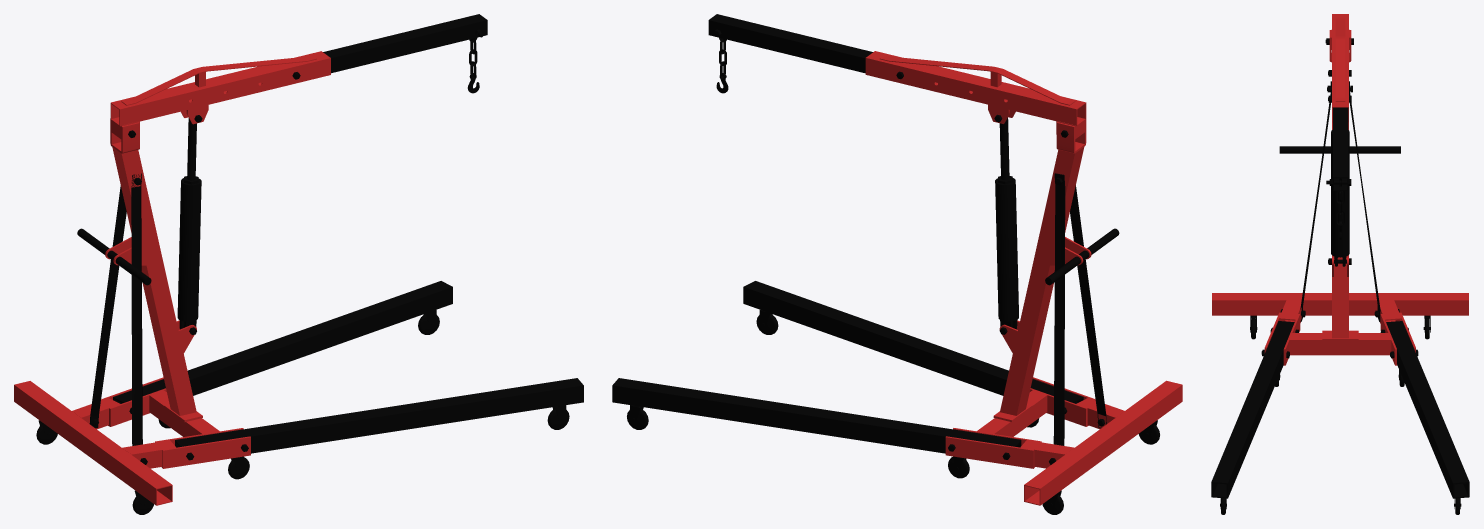
Rendered from EngineHoist.fbx.
The picture shows the model from 3 angles, left to right: view 1: azimuth 30°, elevation 25°; view 2: azimuth 150°, elevation 25°; view 3: azimuth 270°, elevation 25°; orthographic projection. The views are drawn at different scales.
Parts seen in each view (by area): view 1: Legs, Bridge, MainFrame, BoomHolder, Support, Boom, HydraulicJack, Wheels, Brackets, Handle; view 2: Legs, Bridge, MainFrame, BoomHolder, Support, Boom, HydraulicJack, Wheels, Brackets, Handle; view 3: Bridge, Legs, MainFrame, BoomHolder, HydraulicJack, Boom, Support, Handle, Wheels, BoltsMain.
Part boxes in pixels (x1,y1,x2,y2): Legs: [113, 281, 583, 453]; Bridge: [14, 377, 250, 505]; MainFrame: [105, 118, 202, 422]; BoomHolder: [110, 51, 330, 126]; Support: [89, 173, 142, 445]; Boom: [323, 14, 487, 73]; HydraulicJack: [177, 118, 201, 329]; Wheels: [36, 313, 569, 514]; Brackets: [38, 310, 566, 508]; Handle: [77, 228, 151, 285]; Legs: [612, 281, 1083, 453]; Bridge: [945, 377, 1182, 505]; MainFrame: [993, 119, 1091, 421]; BoomHolder: [865, 51, 1086, 126]; Support: [1053, 173, 1106, 445]; Boom: [708, 14, 872, 73]; HydraulicJack: [995, 117, 1018, 329]; Wheels: [627, 313, 1159, 514]; Brackets: [630, 310, 1157, 508]; Handle: [1045, 228, 1119, 285]; Bridge: [1212, 293, 1468, 365]; Legs: [1211, 321, 1469, 498]; MainFrame: [1322, 29, 1358, 340]; BoomHolder: [1332, 14, 1348, 122]; HydraulicJack: [1331, 130, 1349, 266]; Boom: [1333, 107, 1348, 190]; Support: [1300, 81, 1380, 321]; Handle: [1279, 146, 1400, 153]; Wheels: [1221, 318, 1459, 514]; BoltsMain: [1325, 38, 1353, 264].
Size of the model in its own units: 73.07 by 62.27 by 42.05.
